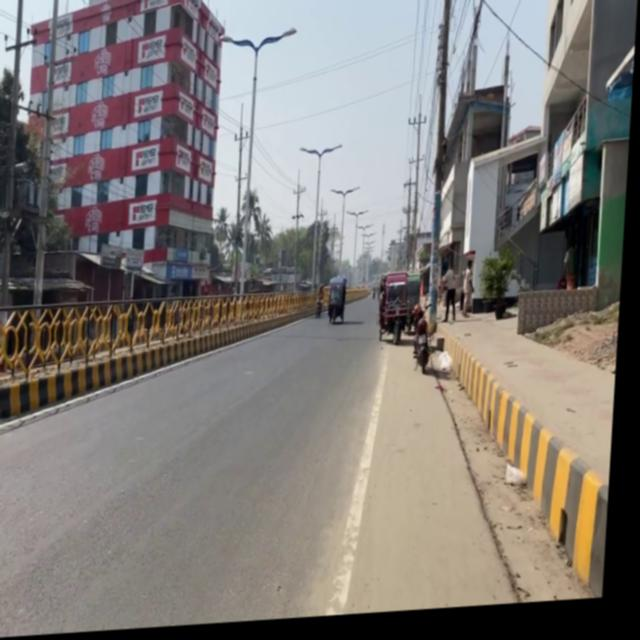Construction-barrier: (473, 387, 616, 582)
Fallen-tree: (414, 309, 439, 380), (318, 303, 327, 322)
Garbage: (519, 293, 601, 343)
Garbage-bin: (443, 270, 462, 329), (464, 266, 478, 325)
Pole: (0, 279, 374, 421)
Pothole: (425, 319, 623, 613)
Traffic-cone: (370, 274, 448, 360)
